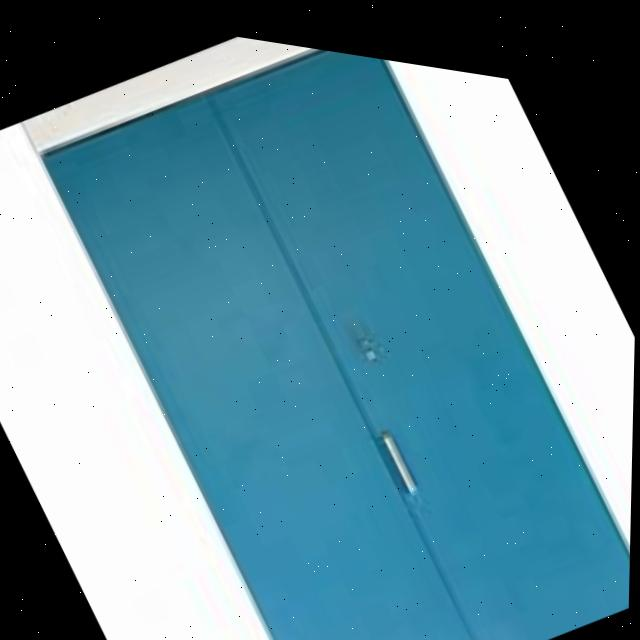dolap: (4, 2, 640, 640)
